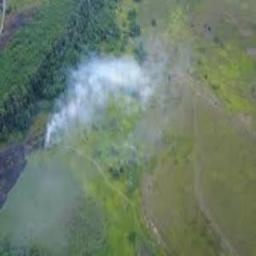Low smoke: (45, 52, 154, 140)
